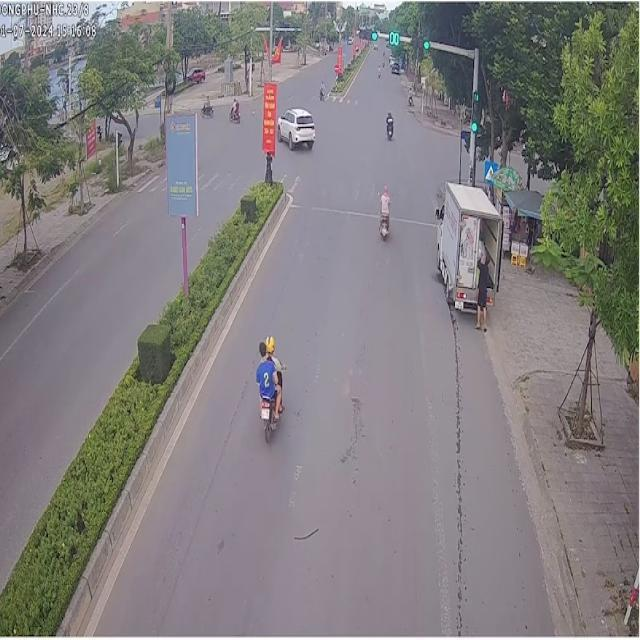car: (434, 180, 498, 309), (276, 106, 314, 147)
green_light: (469, 88, 479, 131), (356, 24, 376, 39)
motobike: (254, 336, 280, 440), (377, 182, 388, 237)
stop_line: (287, 202, 453, 228)
yellow_light: (382, 31, 387, 36)
